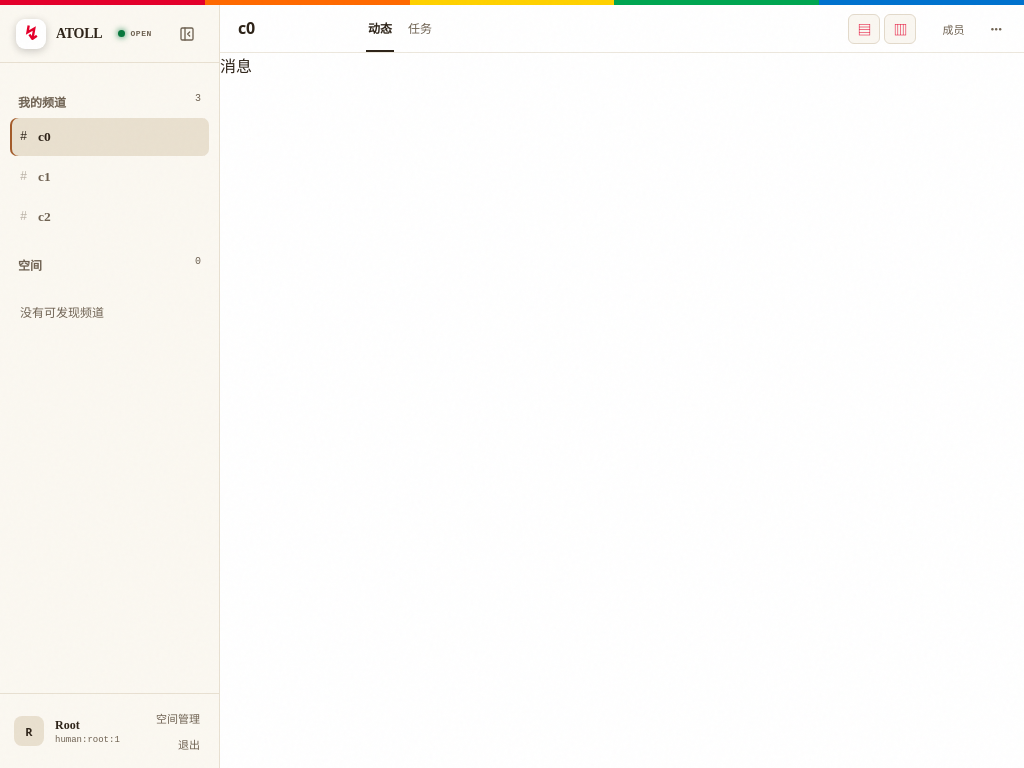
A-D round 18 public owner evidence: target handoff › [AD-096] disables the committed channel terminal entry while target selection is pending
The width and height of the screenshot is (1024, 768).
Click the text "c1".
click(44, 176)  # box [38,169,51,184]
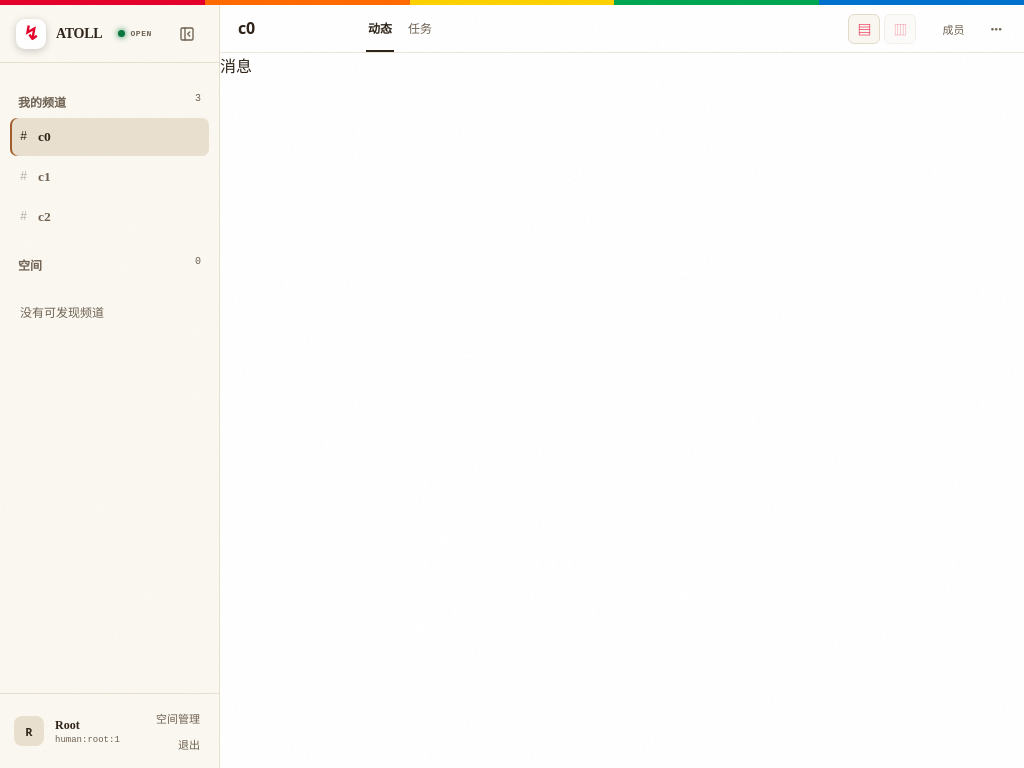
Now the button with id "workspace-terminal-toggle" is disabled, box [884,14,916,44]
